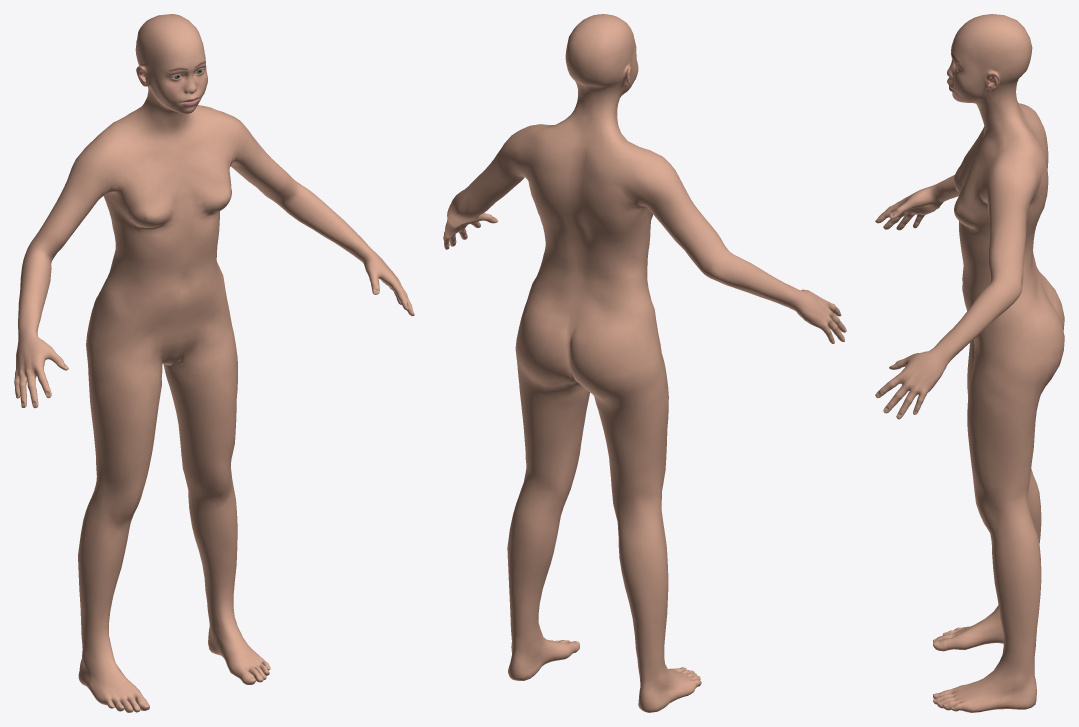
The model's file is female-candidate.glb.
The picture shows the model from 3 angles, left to right: view 1: azimuth 30°, elevation 25°; view 2: azimuth 150°, elevation 25°; view 3: azimuth 270°, elevation 25°; orthographic projection.
Parts seen in each view (by area): view 1: female-native; view 2: female-native; view 3: female-native.
Part boxes in pixels (x1=…): female-native: x1=14, y1=14, x2=414, y2=712; female-native: x1=443, y1=14, x2=846, y2=712; female-native: x1=875, y1=14, x2=1064, y2=712.
Size of the model in its own units: 1.1 by 1.77 by 0.4614.
Materials: 2 (2 with a texture image).
